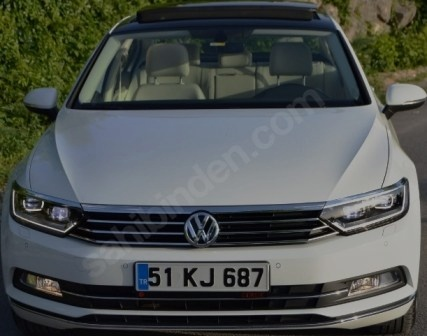plaka: (142, 263, 271, 290)
